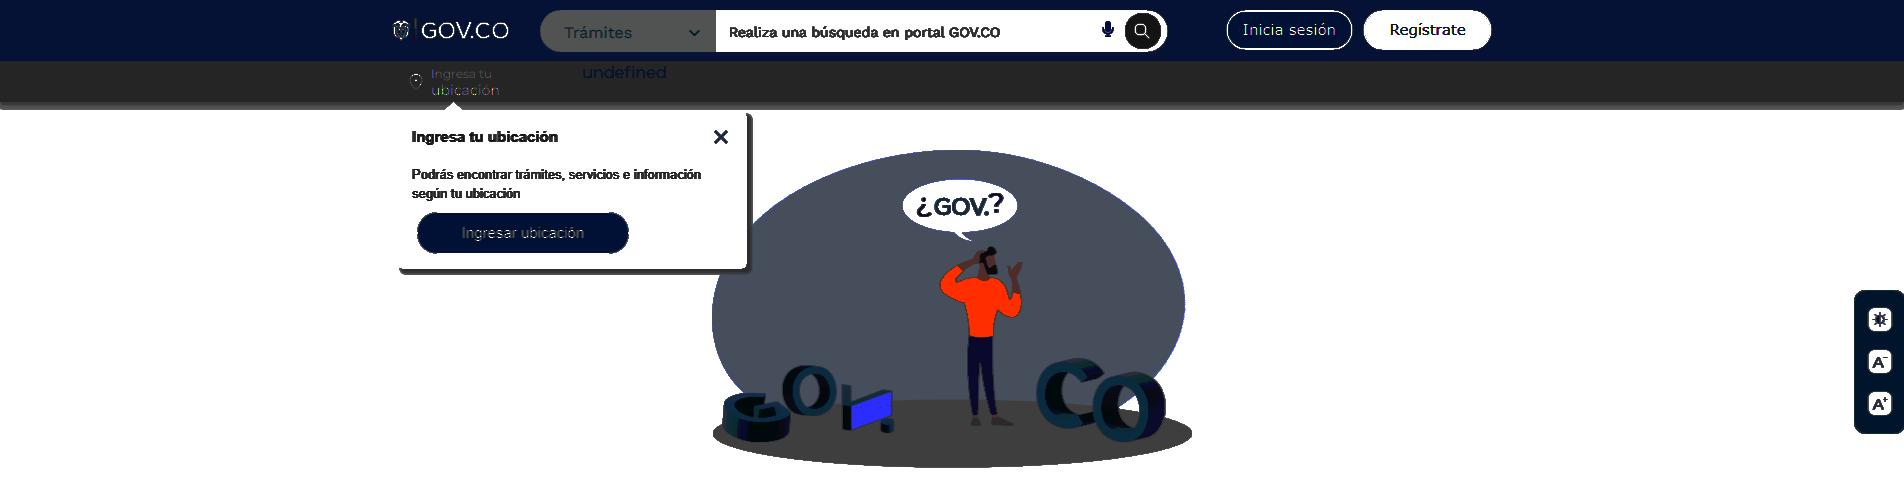barra accesibilidad: (1852, 288, 1904, 436)
barra govco: (388, 0, 1495, 66)
btn buscador: (712, 6, 1171, 54), (1123, 10, 1163, 50)
btn inicio sesion: (1239, 19, 1337, 42)
btn registro: (1386, 21, 1468, 41)
logogovco: (390, 17, 512, 45)
